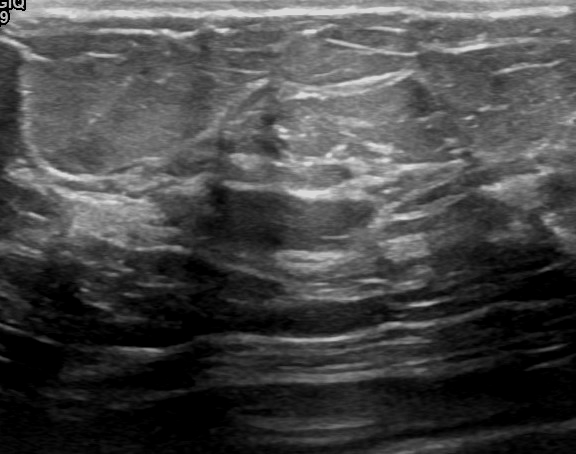Normal: (23, 22, 576, 429)
